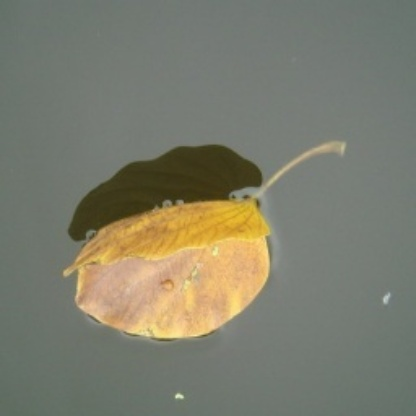leaf: (68, 134, 371, 337)
